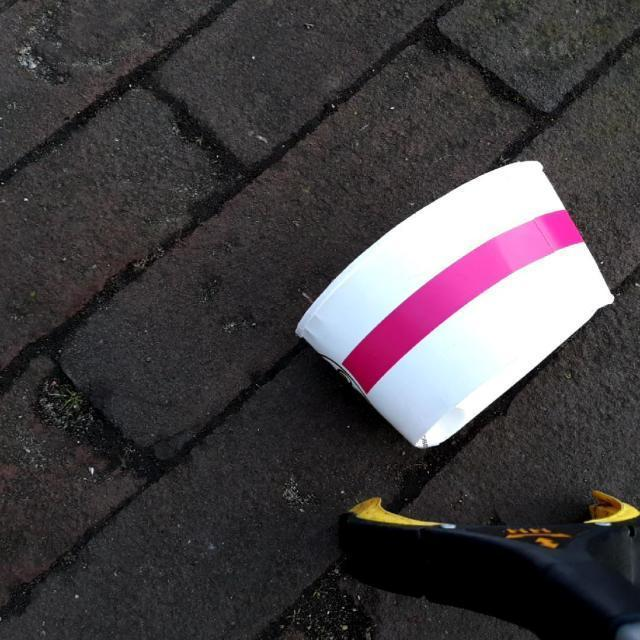Paper: (290, 156, 616, 452)
